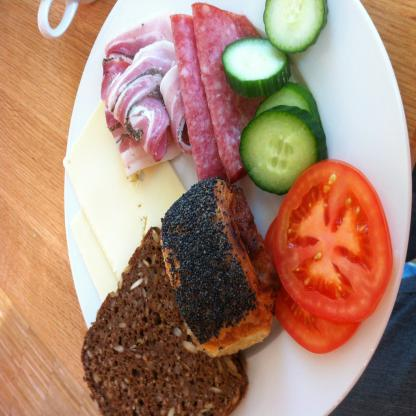Cucumber: (238, 102, 326, 199), (220, 34, 291, 99), (265, 0, 330, 59), (251, 79, 323, 126)
Tomato: (274, 157, 391, 322), (264, 214, 360, 356)
